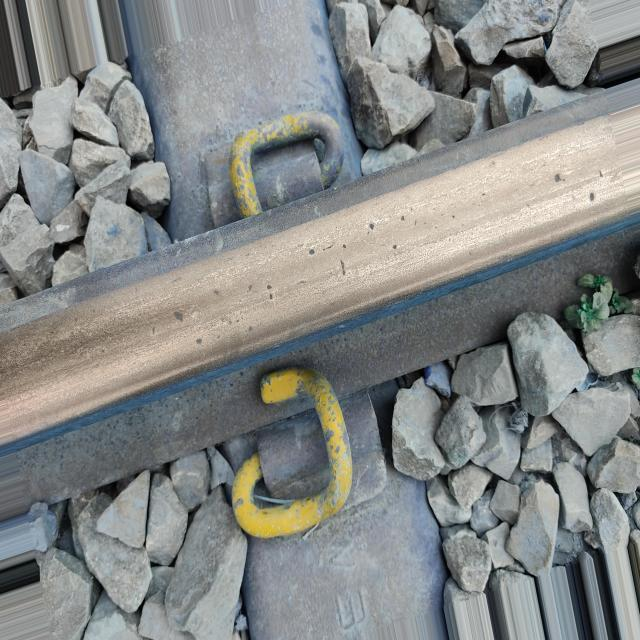Good Fasteners: (233, 368, 385, 538), (204, 111, 345, 228)
